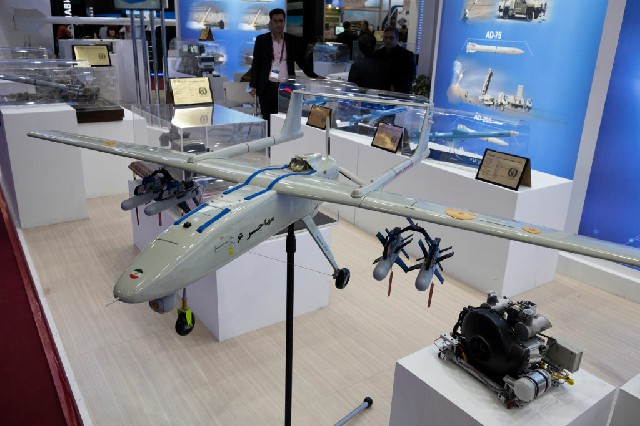maybay_khongnguoilai: (20, 98, 628, 309)
